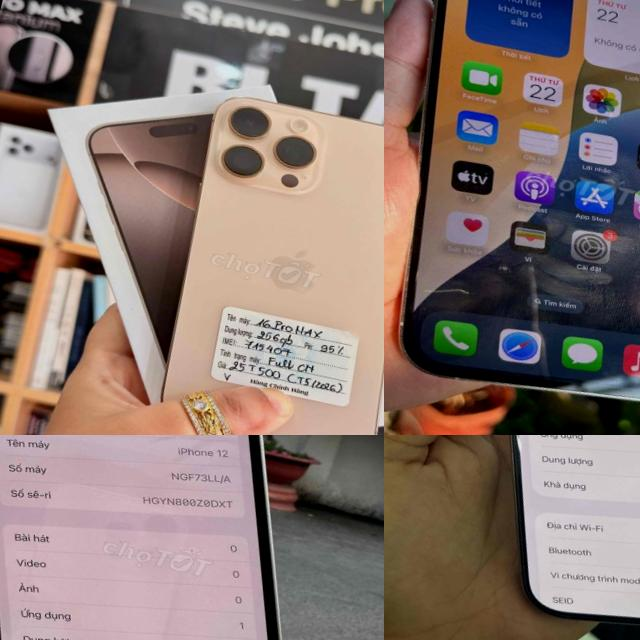gen_12_13: (0, 435, 384, 640)
gen_14: (384, 0, 640, 435)
gen_16: (134, 80, 384, 435), (392, 435, 640, 640)
scratch: (384, 223, 440, 354)
